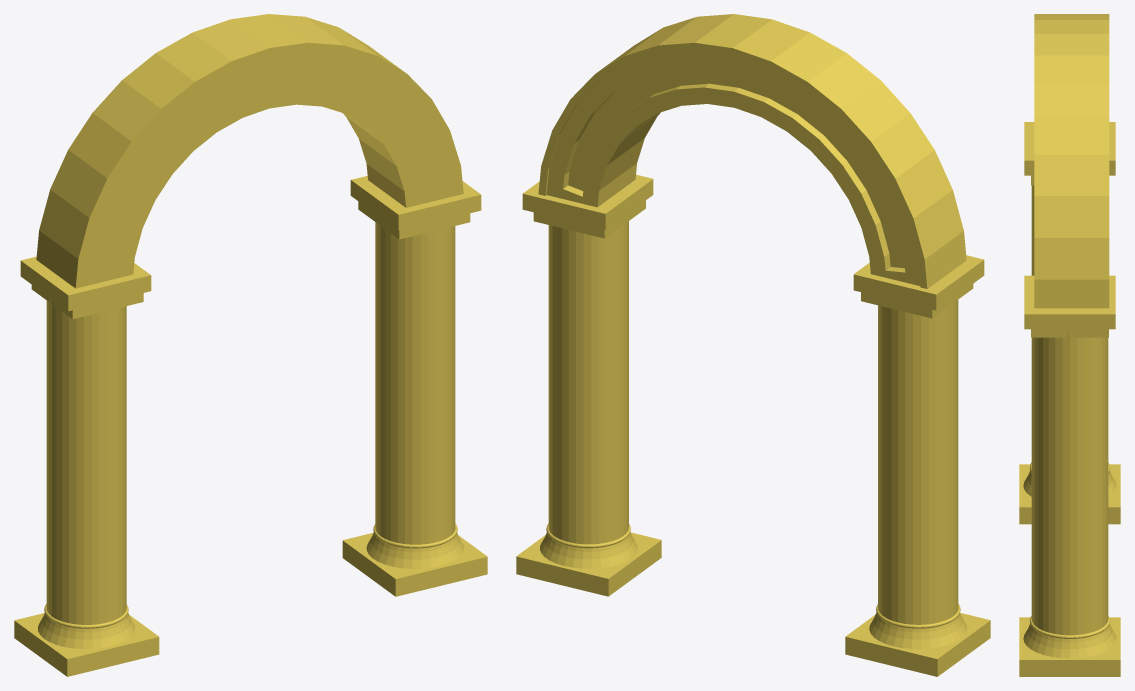
File: greek-arch.glb
3 views of the same model, side by side, from view 1: azimuth 30°, elevation 25°; view 2: azimuth 150°, elevation 25°; view 3: azimuth 270°, elevation 25° (orthographic). The views are drawn at different scales.
Visible parts, largest first — view 1: Circle.001; view 2: Circle.001; view 3: Circle.001.
Part boxes in pixels (x1=…): Circle.001: x1=14, y1=14, x2=487, y2=676; Circle.001: x1=516, y1=14, x2=990, y2=676; Circle.001: x1=1019, y1=14, x2=1120, y2=676.
Size of the model in its own units: 3.97 by 5.16 by 0.8693.
